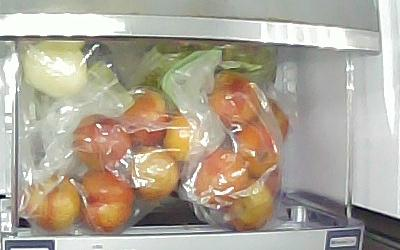prune_vinyl: (78, 168, 135, 234), (193, 146, 248, 206), (72, 114, 131, 169), (25, 175, 80, 233), (207, 73, 260, 129), (119, 89, 169, 147), (129, 146, 180, 201), (225, 178, 275, 232), (235, 123, 280, 180), (258, 96, 290, 147), (163, 117, 197, 163)
